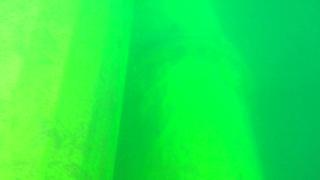pipe: (115, 1, 262, 178), (1, 1, 137, 179)
